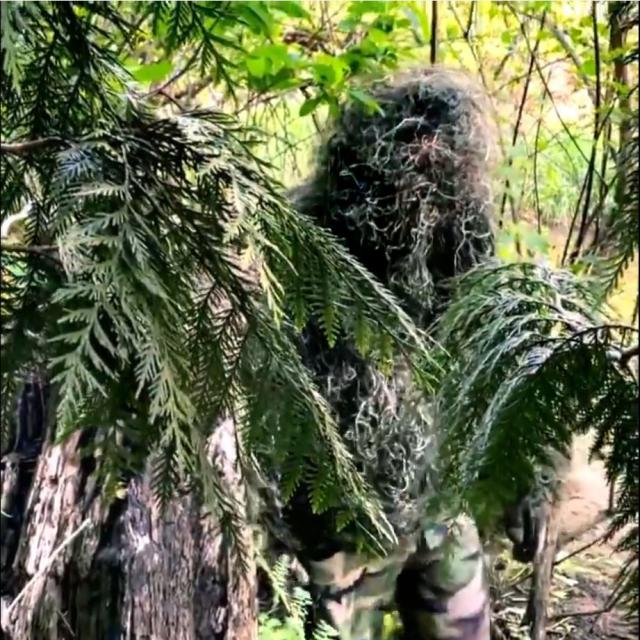human: (291, 75, 494, 327), (301, 318, 409, 437)
